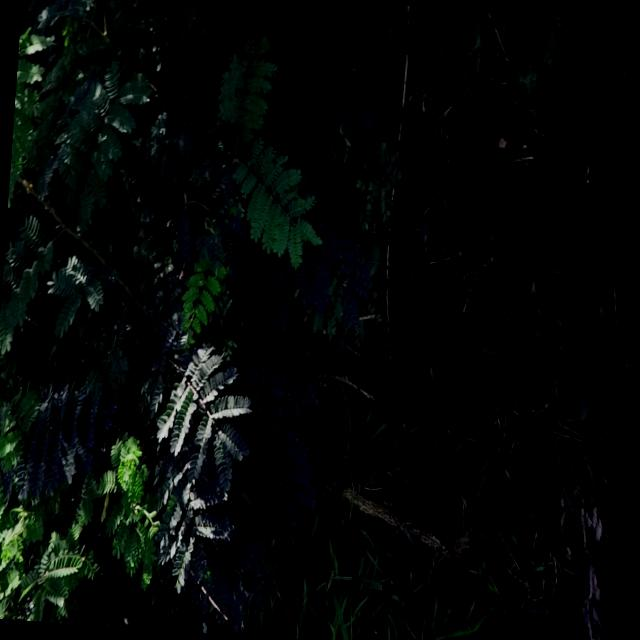Mysore-Thorn-Weed: (0, 0, 401, 634)
